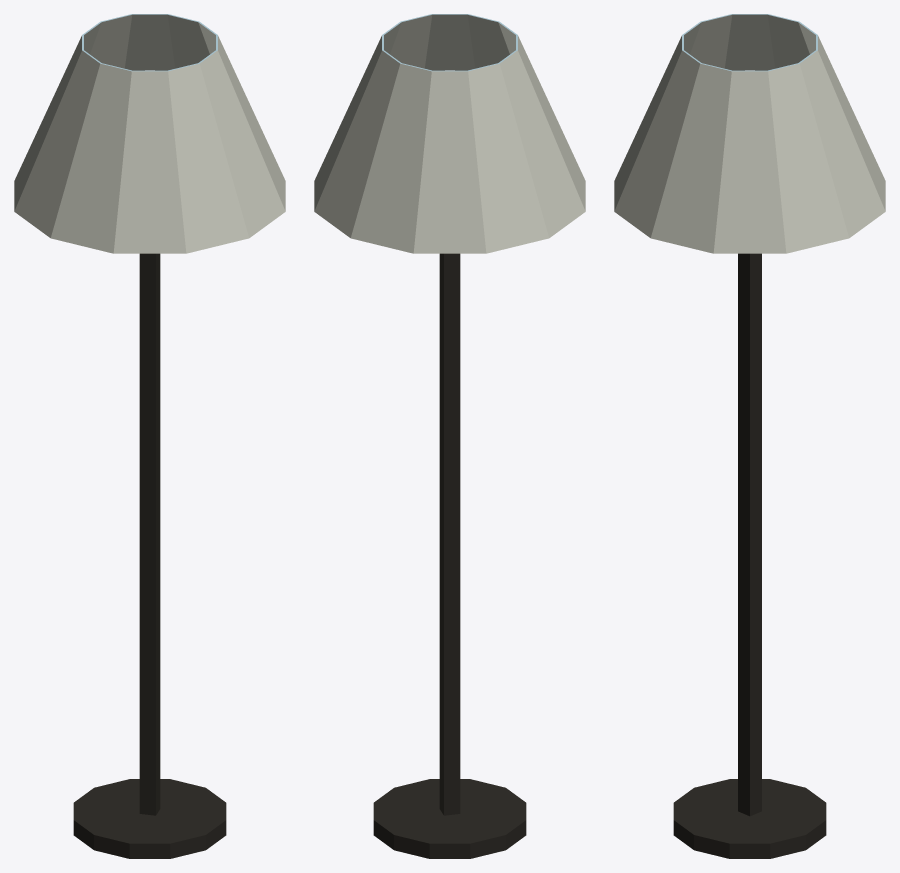
File: lamp.gltf
3 renders of one model, left to right at view 1: azimuth 30°, elevation 25°; view 2: azimuth 150°, elevation 25°; view 3: azimuth 270°, elevation 25°, orthographic.
Parts seen in each view (by area): view 1: tube, cube, cylinder; view 2: tube, cube, cylinder; view 3: tube, cube, cylinder.
Boxes of the visible parts, box(x1,y1,x2,y2) form: tube: box(14, 14, 285, 253); cube: box(139, 253, 160, 815); cylinder: box(73, 779, 226, 858); tube: box(314, 14, 585, 253); cube: box(439, 253, 460, 815); cylinder: box(373, 779, 526, 858); tube: box(614, 14, 885, 253); cube: box(738, 253, 761, 816); cylinder: box(673, 779, 826, 858).
Size of the model in its own units: 1 by 3.19 by 1.
Materials: 1 (1 with a texture image).
